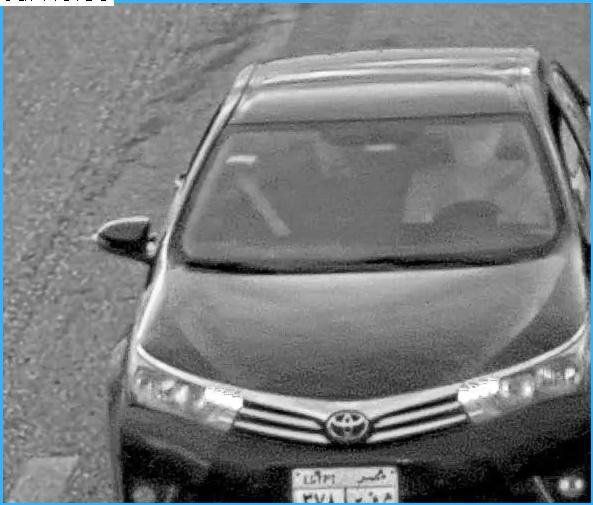windshield: (165, 93, 574, 257)
